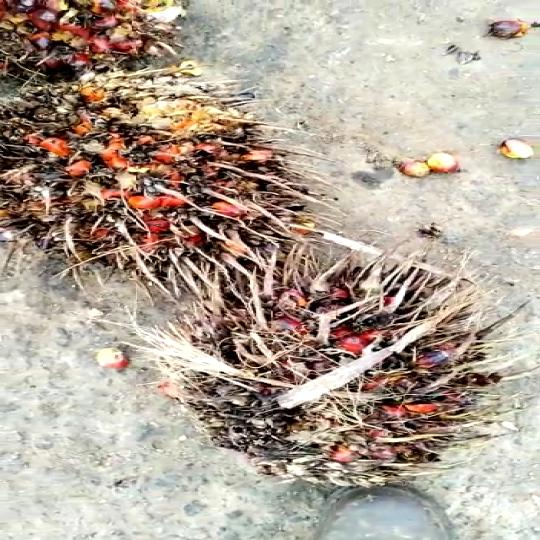terlalu masak: (142, 250, 501, 490), (0, 91, 286, 288)
